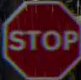Stop: (1, 0, 80, 79)
